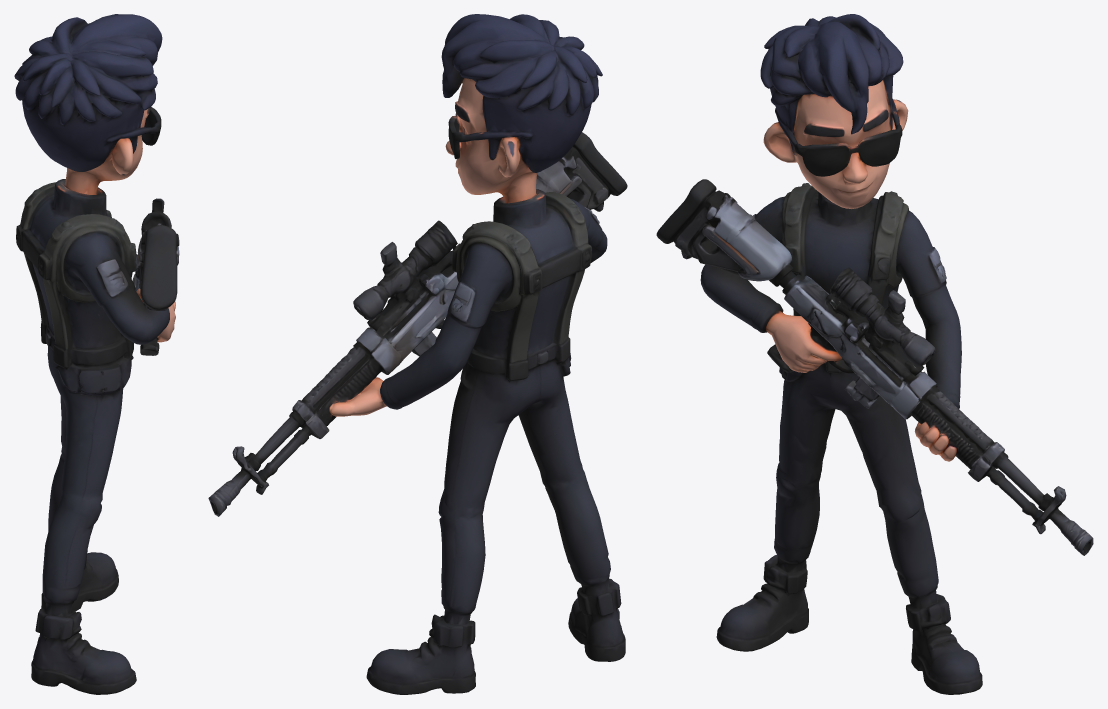
File: sigma.glb
The picture shows the model from 3 angles, left to right: view 1: azimuth 30°, elevation 25°; view 2: azimuth 150°, elevation 25°; view 3: azimuth 270°, elevation 25°; orthographic projection. The views are drawn at different scales.
Visible parts, largest first — view 1: tripo_node_facee5fb-6a68-4345-acea-5e11e47fef95; view 2: tripo_node_facee5fb-6a68-4345-acea-5e11e47fef95; view 3: tripo_node_facee5fb-6a68-4345-acea-5e11e47fef95.
Part boxes in pixels (x1,y1,x2,y2): tripo_node_facee5fb-6a68-4345-acea-5e11e47fef95: (14,14,179,694); tripo_node_facee5fb-6a68-4345-acea-5e11e47fef95: (208,14,627,694); tripo_node_facee5fb-6a68-4345-acea-5e11e47fef95: (656,14,1093,694).
Size of the model in its own units: 0.4422 by 1 by 0.6201.
Materials: 1 (1 with a texture image).
